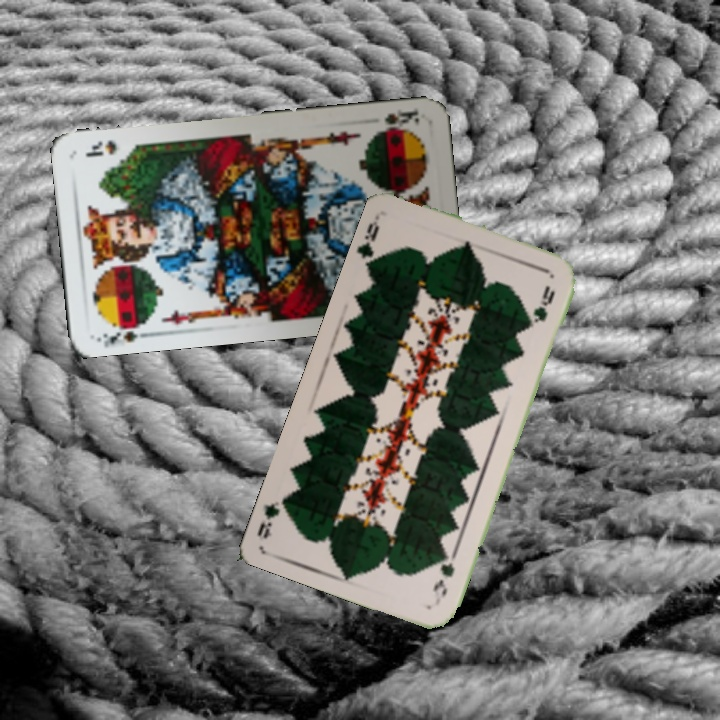G9: (355, 211, 382, 271), (429, 548, 459, 600)
SK: (93, 316, 153, 348), (372, 104, 422, 135)
